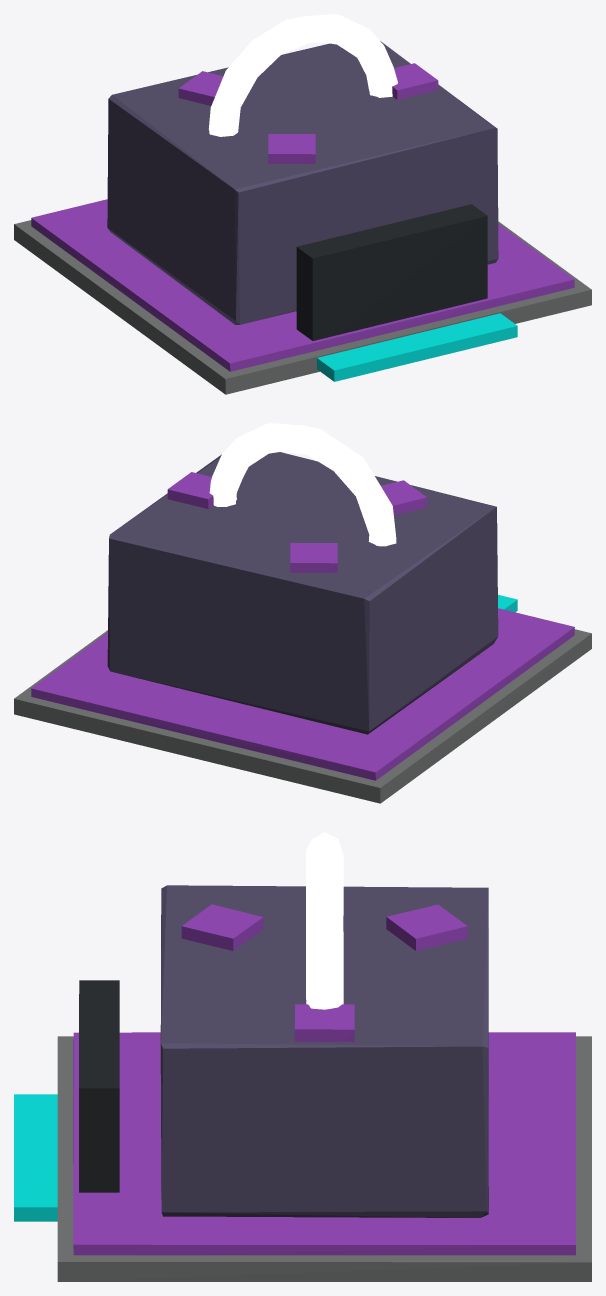
Rendered from SM_Chronolegion_CH_WarFactory_LOD2.fbx.
3 views of the same model, one above another, from view 1: azimuth 30°, elevation 25°; view 2: azimuth 150°, elevation 25°; view 3: azimuth 270°, elevation 25° (orthographic). The views are drawn at different scales.
Visible parts, largest first — view 1: LOD02_SM_Chronolegion_CH_WarFactory; view 2: LOD02_SM_Chronolegion_CH_WarFactory; view 3: LOD02_SM_Chronolegion_CH_WarFactory.
Boxes of the visible parts, <box> form: LOD02_SM_Chronolegion_CH_WarFactory: <box>14,14,591,394</box>; LOD02_SM_Chronolegion_CH_WarFactory: <box>14,423,591,803</box>; LOD02_SM_Chronolegion_CH_WarFactory: <box>14,832,591,1281</box>.
Bounding box in the file's own units: 797 × 862 × 532.
